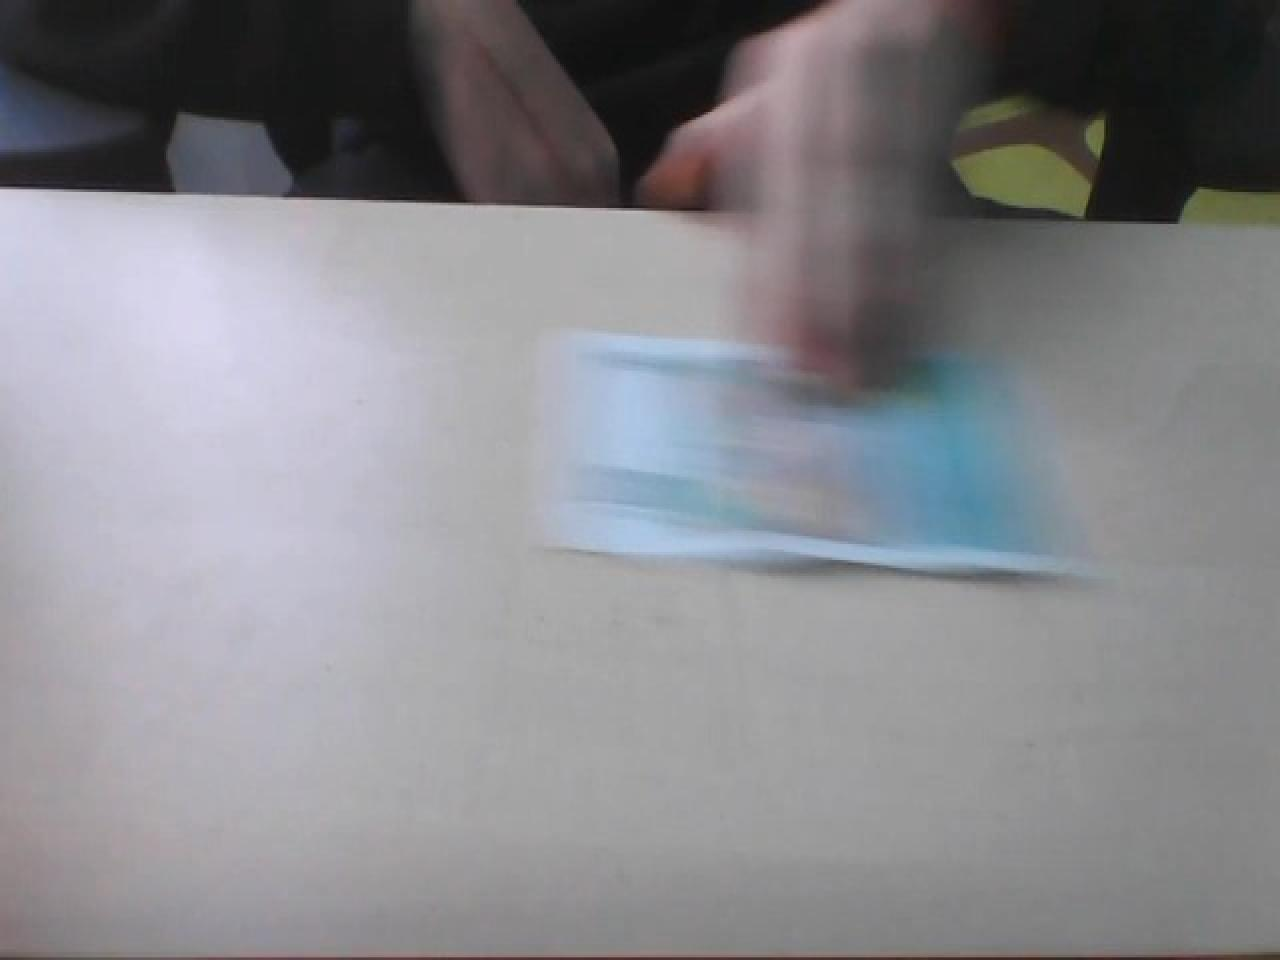100leva: (530, 323, 1100, 587)
